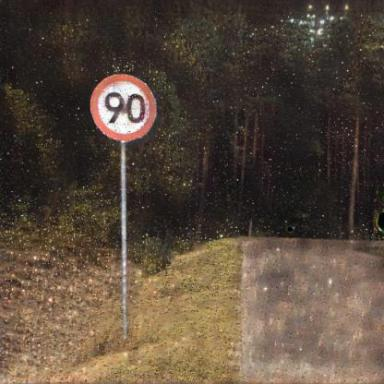Speed_limit_90: (93, 77, 156, 141)
